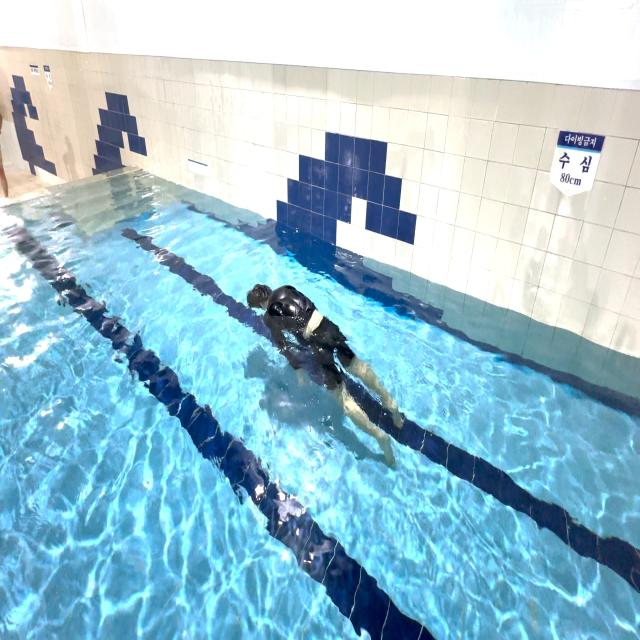Drowning: (239, 266, 414, 479)
